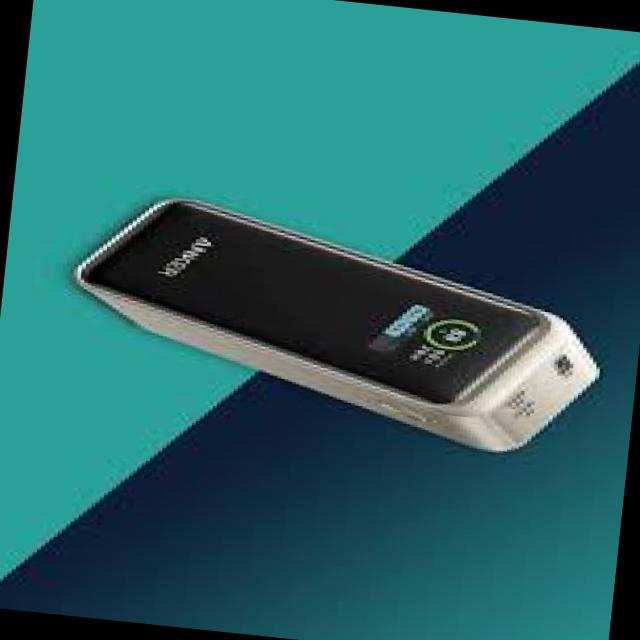portable-charger: (49, 183, 614, 467)
